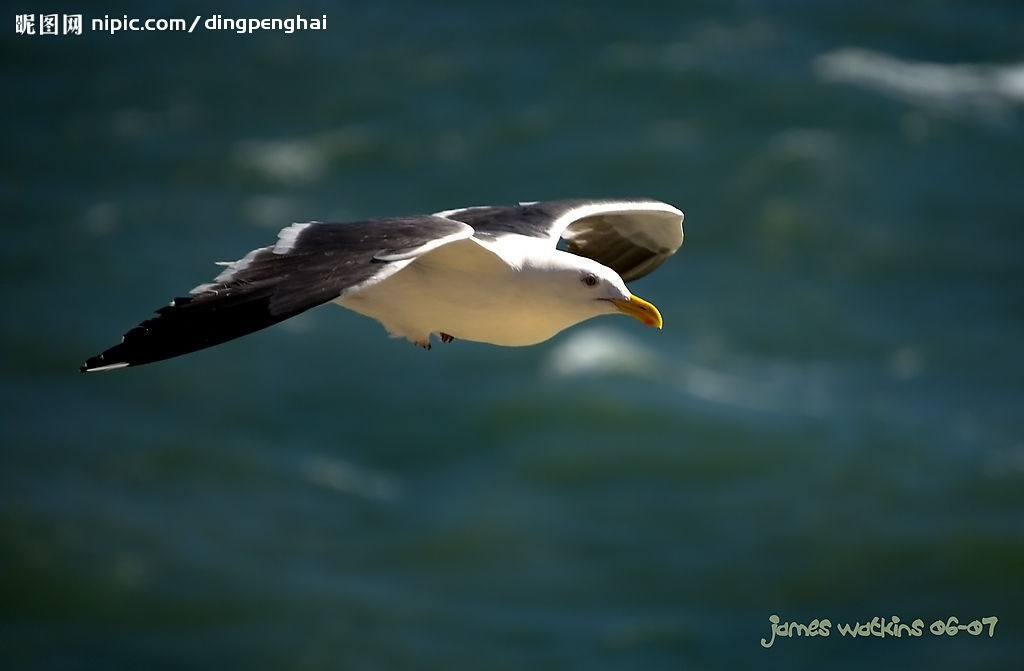bird: (77, 198, 685, 395)
